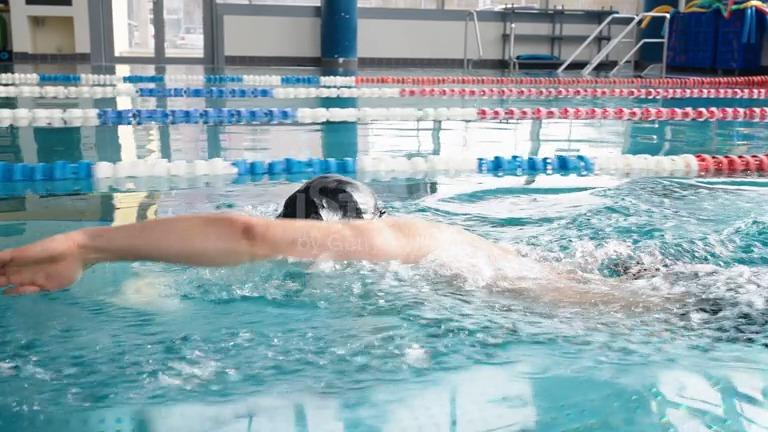Swimming: (2, 173, 763, 331)
